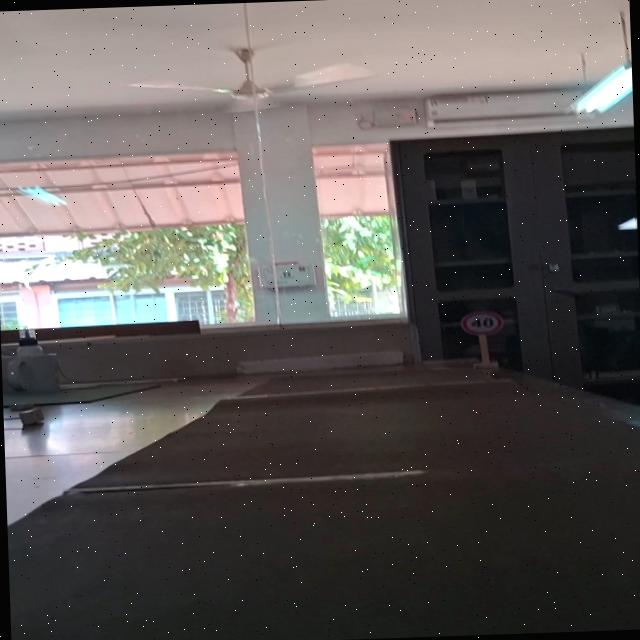Speed40: (458, 309, 505, 336)
